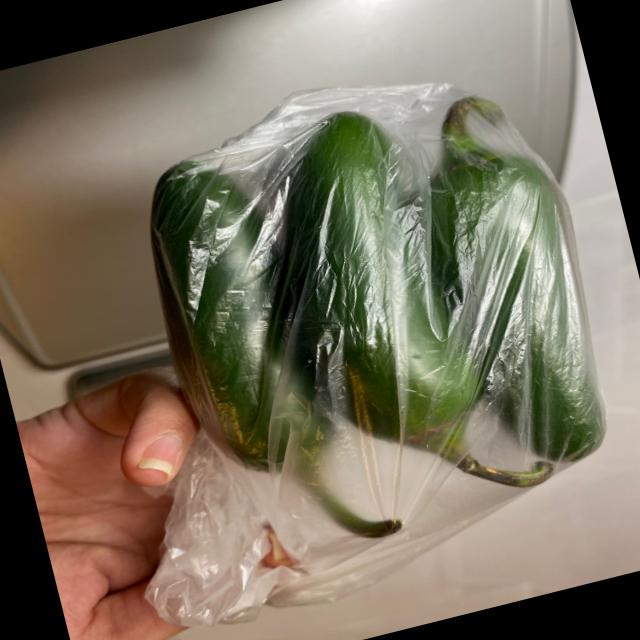chilli: (103, 56, 640, 598)
